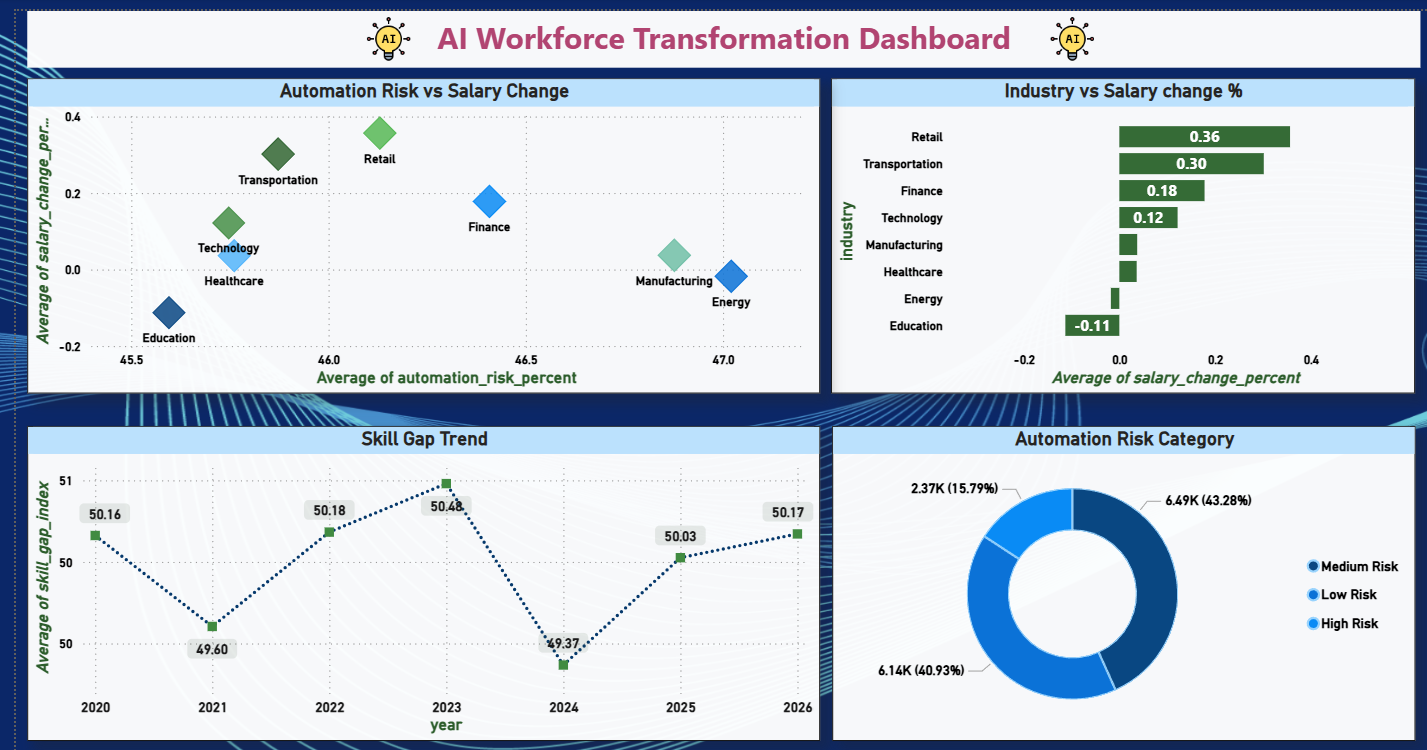

The page's visual inventory and layout, read from the dashboard file:
{"tool":"powerbi","page":{"name":"Page 2","canvas":[1280,720],"ordinal":1},"visuals":[{"type":"clusteredBarChart","title":"Industry vs Salary change %","fields":{"Category":["ai_jobs.industry"],"Y":["Avg(ai_jobs.salary_change_percent)"]},"box":[724.4,60,518.9,280],"z":0},{"type":"scatterChart","title":"Automation Risk vs Salary Change","fields":{"X":["ai_jobs.automation_risk_percent"],"Y":["Avg(ai_jobs.salary_change_percent)"],"Size":["ai_jobs.AI Maturity"],"Category":["ai_jobs.industry"]},"box":[10,60,705,280],"z":1000},{"type":"lineChart","title":"Skill Gap Trend","fields":{"Category":["ai_jobs.year"],"Y":["Avg(ai_jobs.skill_gap_index)"]},"box":[10,368.8,705,280],"z":2000},{"type":"donutChart","title":"Automation Risk Category","fields":{"Category":["ai_jobs.automation_risk_category"],"Y":["Count(ai_jobs.job_id)"]},"box":[725,368.8,518.8,280],"z":3000},{"type":"textbox","box":[10,0,1238.8,50],"z":7000},{"type":"image","box":[907.5,0,62.5,50],"z":8000},{"type":"image","box":[300,0,62.5,50],"z":9000}]}

Visuals, with their boxes on the page's 1280x720 design canvas (x1, y1, x2, y2). These are canvas units, not pixel positions in the 1427x750 screenshot, which may show the page scaled, cropped or inside an application window:
"Industry vs Salary change %" clusteredBarChart: (724, 60, 1243, 340)
"Automation Risk vs Salary Change" scatterChart: (10, 60, 715, 340)
"Skill Gap Trend" lineChart: (10, 369, 715, 649)
"Automation Risk Category" donutChart: (725, 369, 1244, 649)
textbox: (10, 0, 1249, 50)
image: (908, 0, 970, 50)
image: (300, 0, 362, 50)
